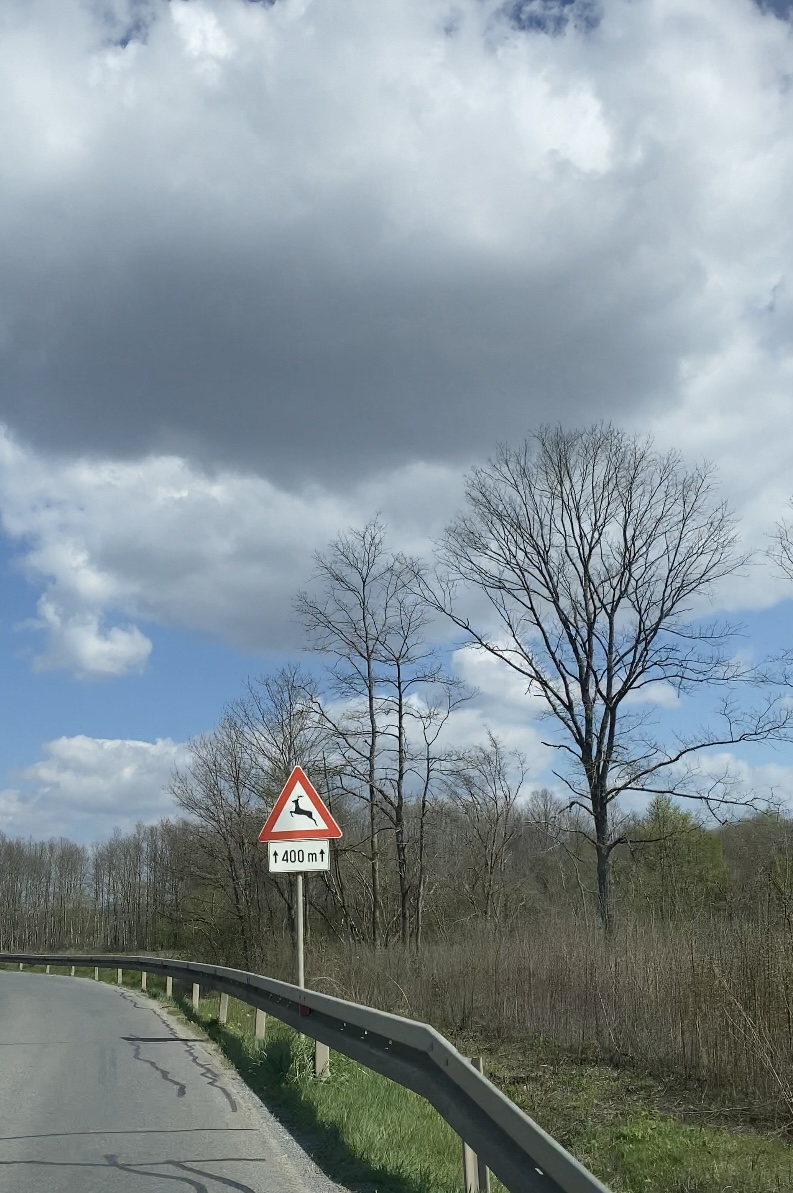Divljač na cesti: (257, 765, 343, 842)
